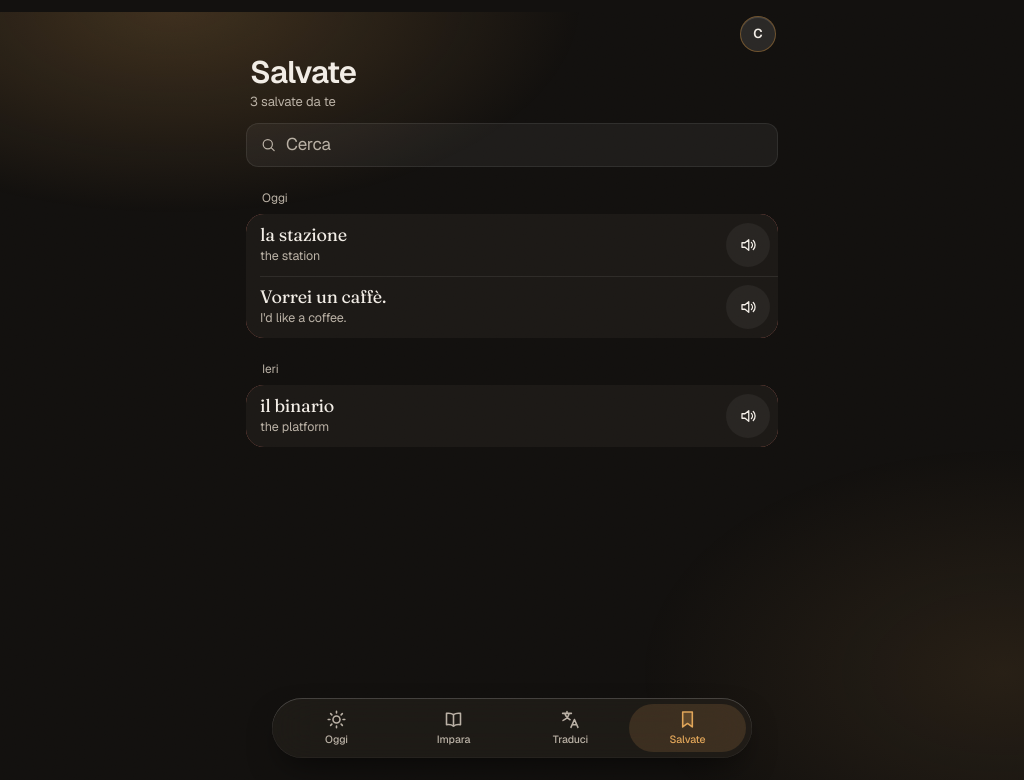
Test: Salvate › counts, groups by day and searches without accents
Check: the text "3 salvate da te" is shown, box [250, 92, 336, 110]
Check: the element named "Oggi · Today" is shown, box [232, 167, 792, 338]
Type "caffe" into the search field named "Cerca nelle salvate" at (512, 145), box [246, 123, 778, 167]
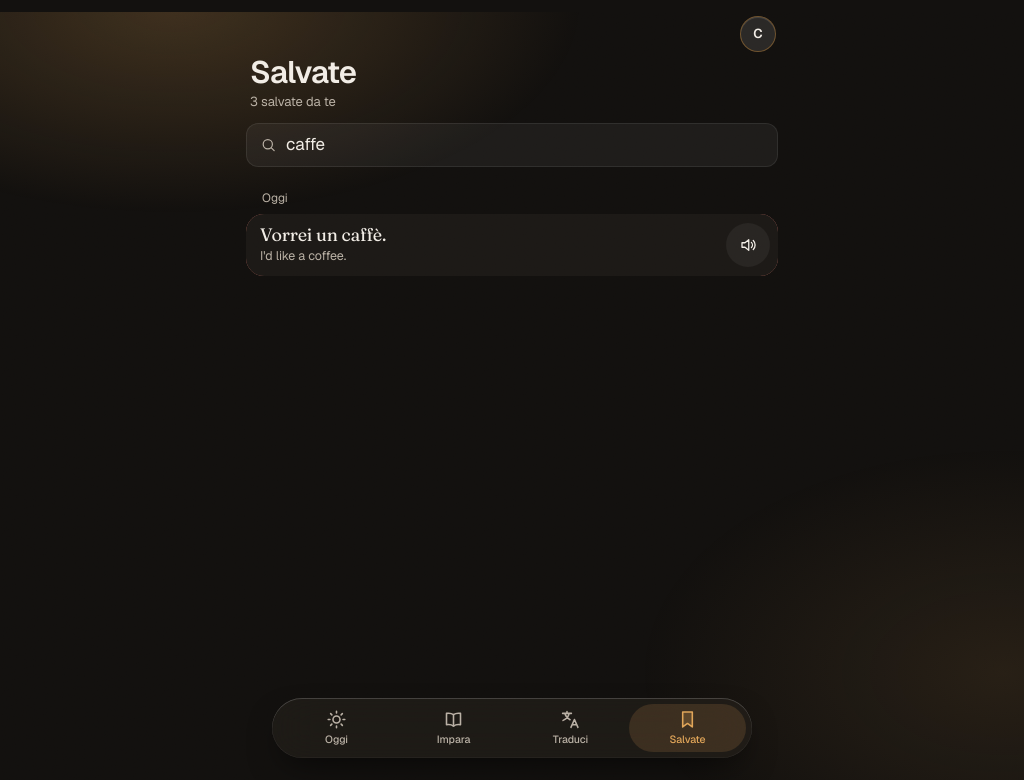
Check: the text "Vorrei un caffè." is shown, box [260, 223, 386, 246]
Check: the button "la stazione" is gone
Replace the text in the search field named "Cerca nelle salvate" with "gelato" at (512, 145), box [246, 123, 778, 167]
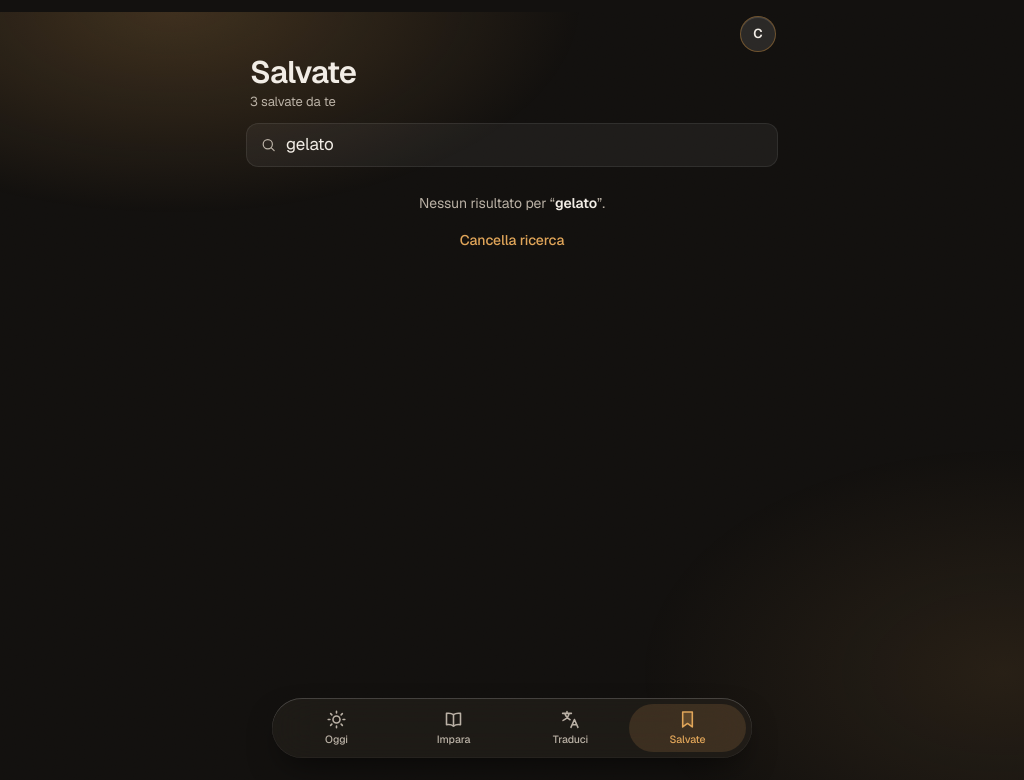
Click the button "Cancella ricerca" at (512, 240), box [450, 218, 574, 262]
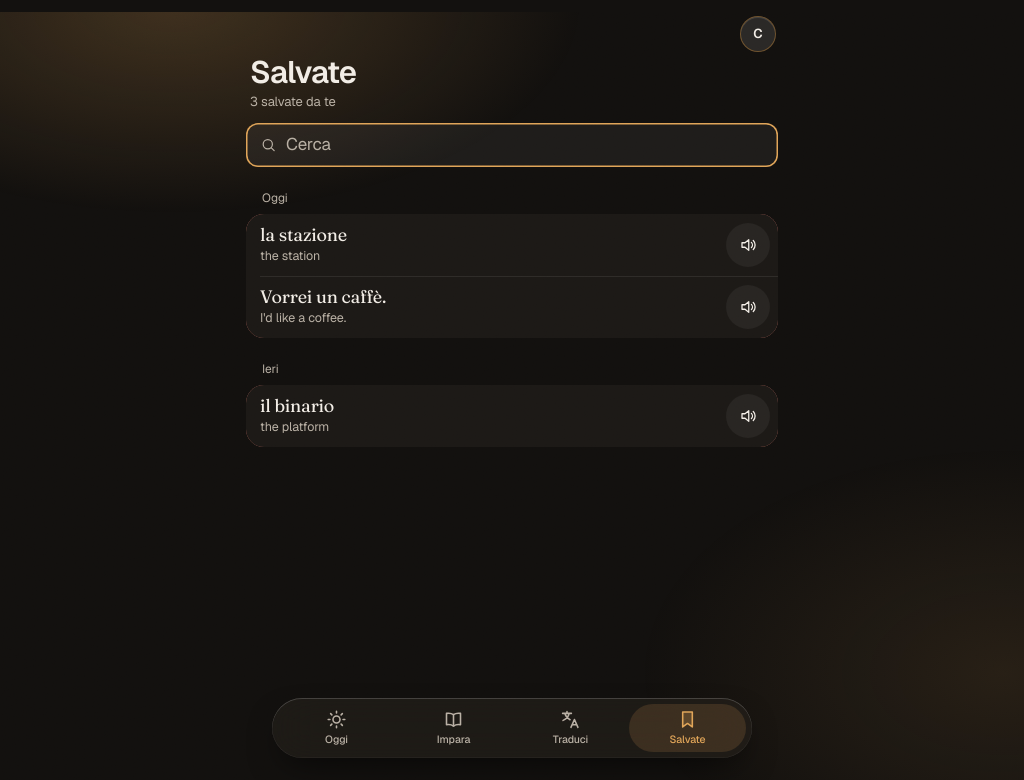
Check: the text "la stazione" is shown, box [260, 223, 347, 246]
